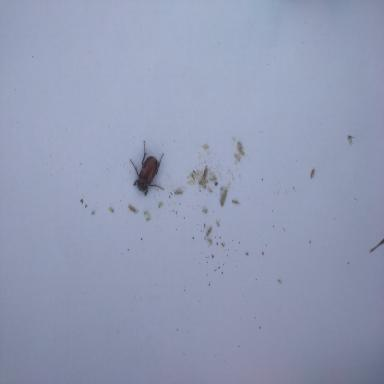pbw: (218, 187, 227, 206), (172, 188, 184, 195), (203, 166, 209, 178), (127, 204, 136, 212), (310, 168, 316, 178), (232, 198, 242, 204), (201, 177, 208, 185), (206, 227, 212, 236)
